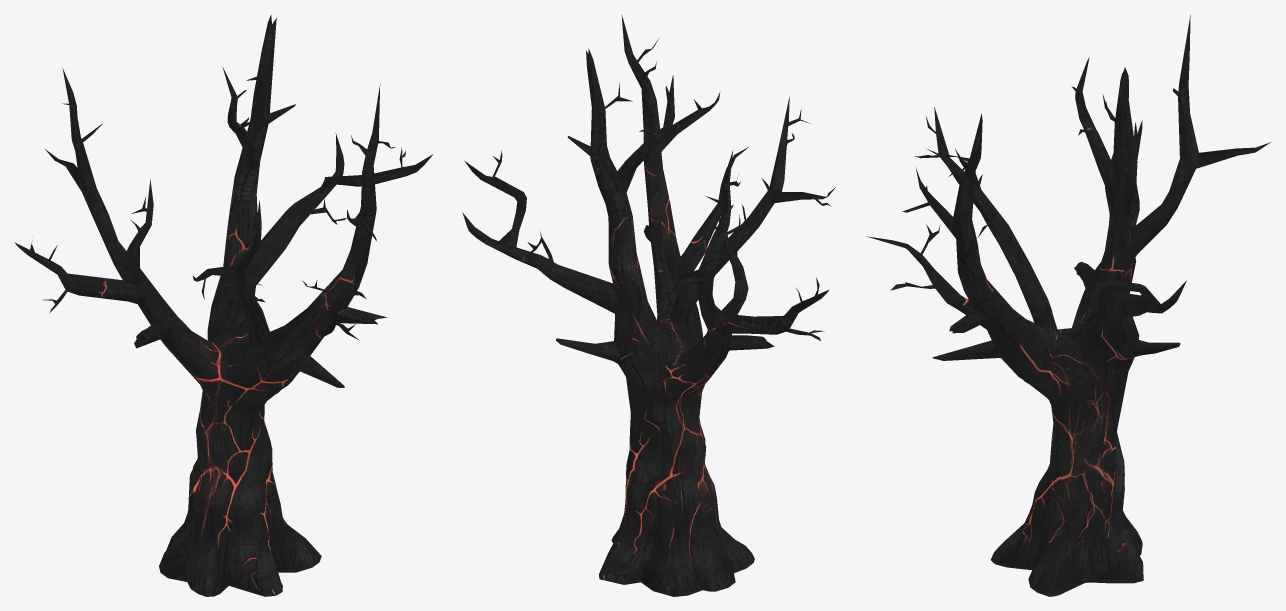
File: dead_tree.glb
3 renders of one model, left to right at view 1: azimuth 30°, elevation 25°; view 2: azimuth 150°, elevation 25°; view 3: azimuth 270°, elevation 25°, orthographic.
Bounding box in the file's own units: 1.5 × 1.9 × 1.33.
1 material, 1 textured.
